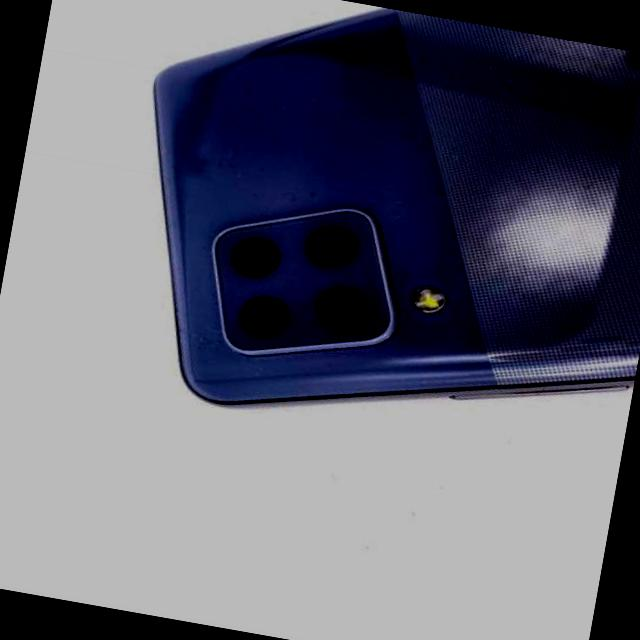lens_back: (197, 185, 417, 378)
